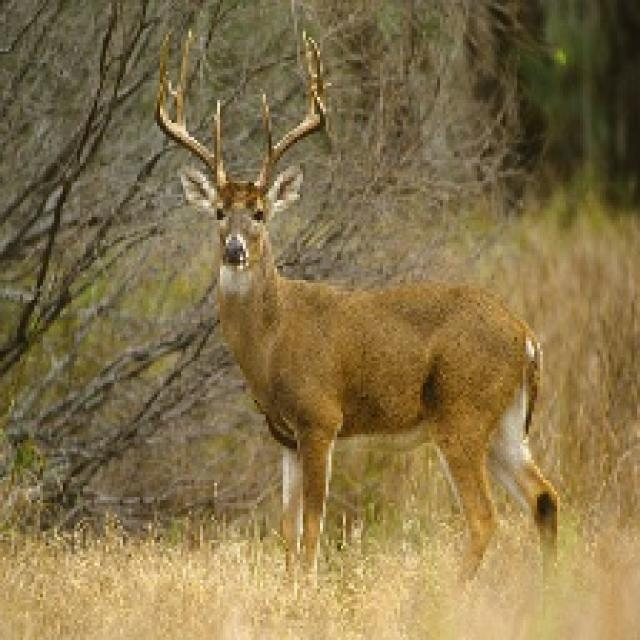bear: (136, 47, 586, 608)
